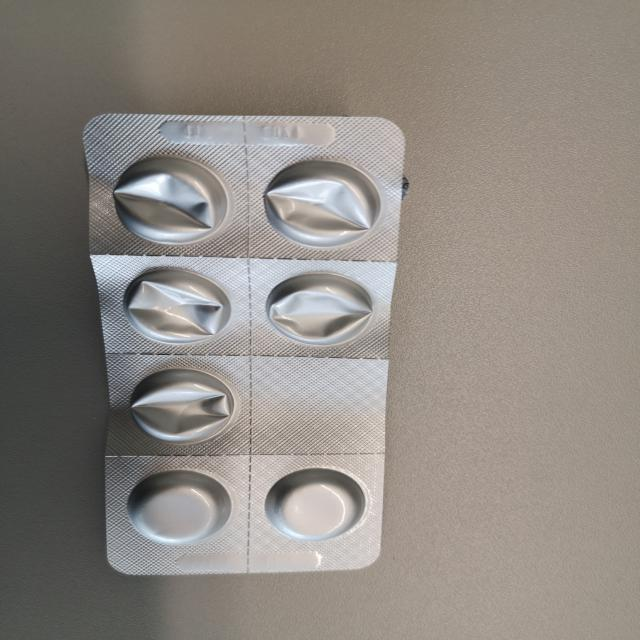Empty: (106, 150, 229, 250), (258, 155, 384, 250), (123, 366, 240, 449), (116, 265, 234, 346), (262, 268, 378, 349)
Pill: (124, 467, 232, 547), (260, 467, 368, 543)
